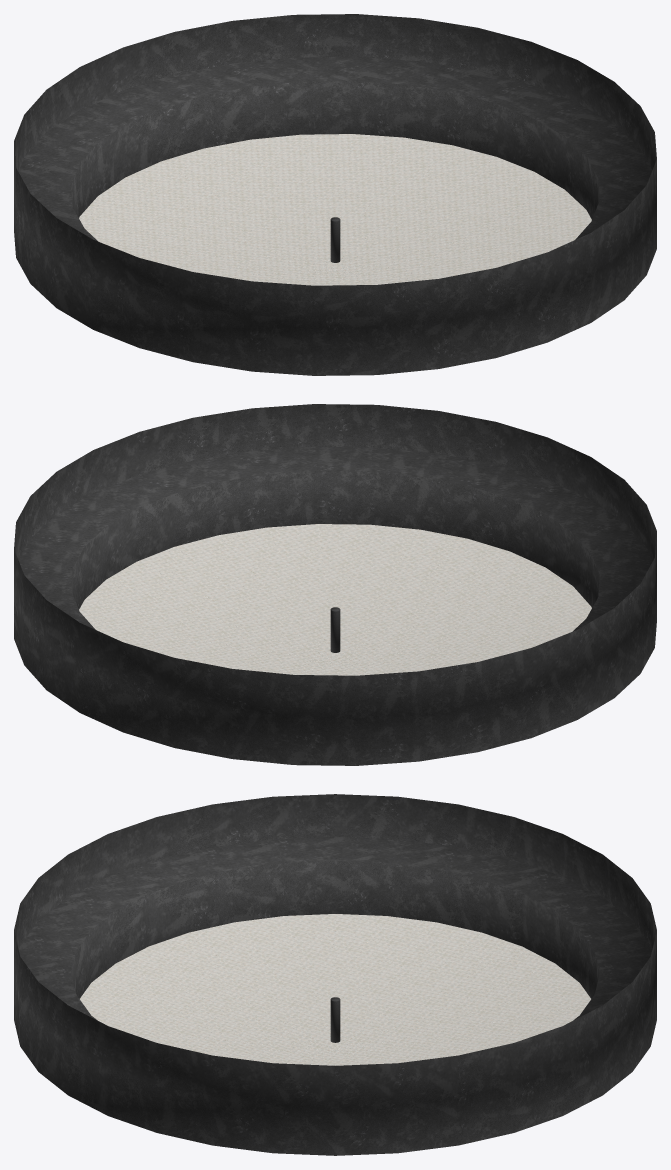
Rendered from terrian.glb.
3 views of the same model, one above another, from view 1: azimuth 30°, elevation 25°; view 2: azimuth 150°, elevation 25°; view 3: azimuth 270°, elevation 25° (orthographic).
Parts seen in each view (by area): view 1: Circle; view 2: Circle; view 3: Circle.
Part boxes in pixels (bbox=[...]): Circle: bbox=[14, 14, 656, 375]; Circle: bbox=[14, 404, 656, 765]; Circle: bbox=[14, 794, 656, 1155].
Size of the model in its own units: 140 by 29.14 by 140.
Materials: 2 (2 with a texture image).
